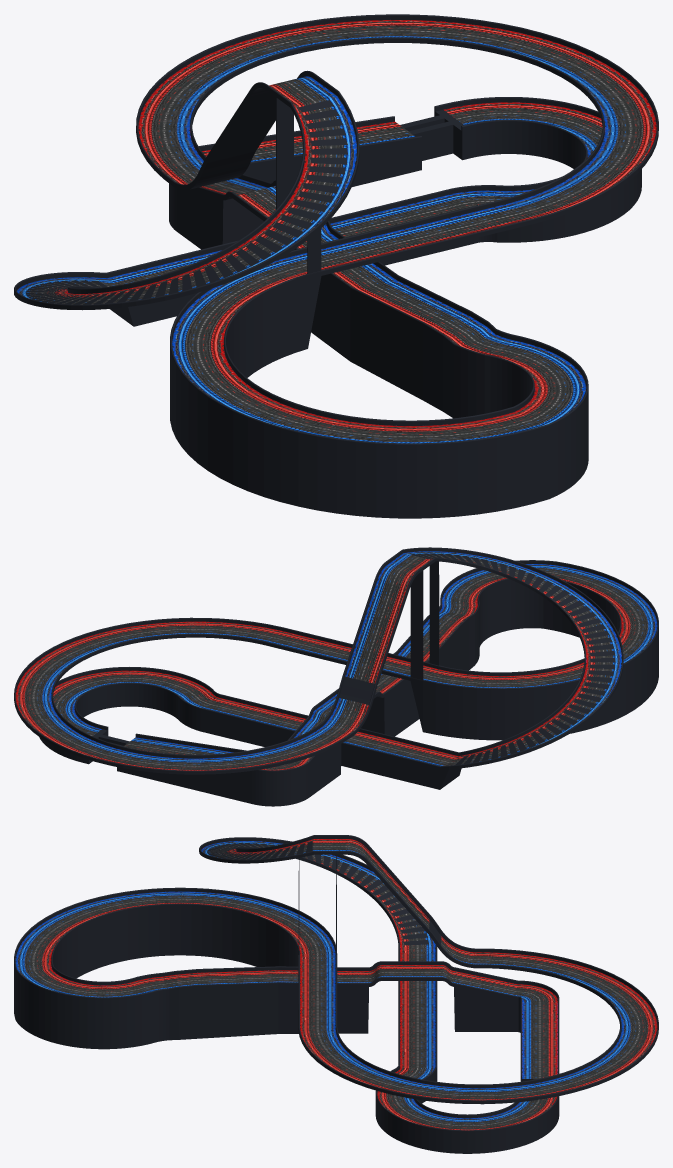
Rendered from Pista.obj.
3 renders of one model, top to bottom at view 1: azimuth 30°, elevation 25°; view 2: azimuth 150°, elevation 25°; view 3: azimuth 270°, elevation 25°, orthographic. The views are drawn at different scales.
Bounding box in the file's own units: 96 × 32.42 × 111.
